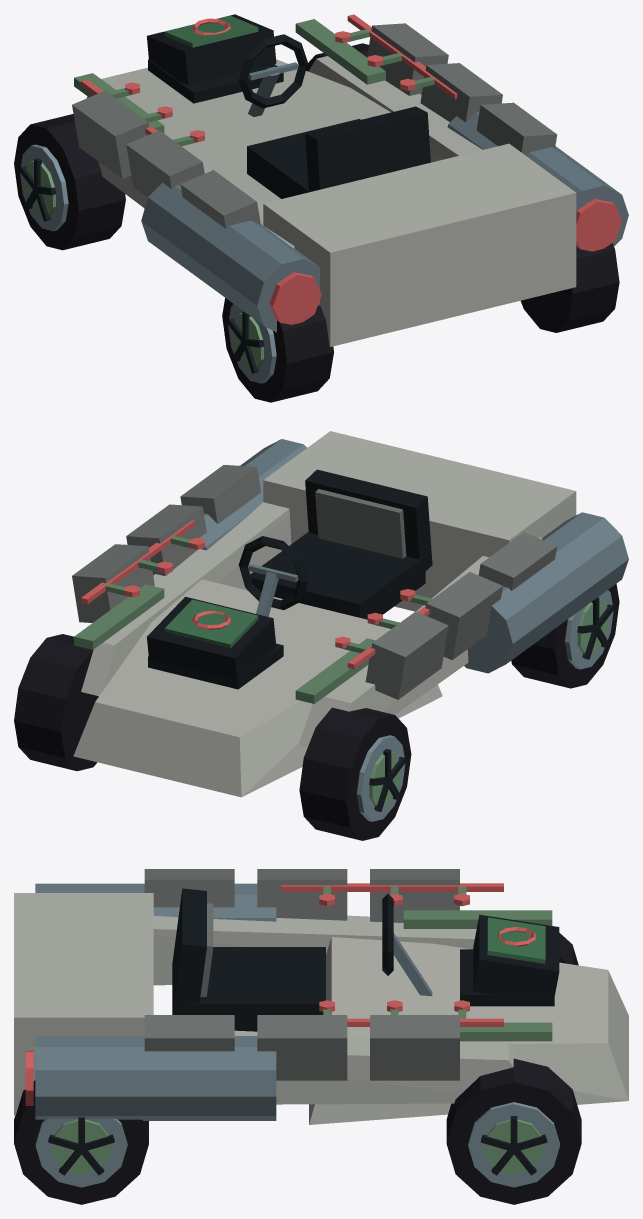
File: kart.glb
3 views of the same model, one above another, from view 1: azimuth 30°, elevation 25°; view 2: azimuth 150°, elevation 25°; view 3: azimuth 270°, elevation 25° (orthographic). The views are drawn at different scales.
Parts seen in each view (by area): view 1: identity-lab-pod-lab-pod-segmented-shell, identity-lab-pod-motif-armor, identity-lab-pod-driver-cockpit, wheel-front-left, wheel-rear-left, identity-lab-pod-motif-scanner, wheel-rear-right, identity-lab-pod-motif-circuit; view 2: identity-lab-pod-lab-pod-segmented-shell, identity-lab-pod-motif-armor, identity-lab-pod-driver-cockpit, wheel-front-left, wheel-front-right, identity-lab-pod-motif-scanner, wheel-rear-left, identity-lab-pod-motif-circuit; view 3: identity-lab-pod-lab-pod-segmented-shell, identity-lab-pod-motif-armor, wheel-front-right, identity-lab-pod-driver-cockpit, wheel-rear-right, identity-lab-pod-motif-scanner, identity-lab-pod-motif-circuit.
Part boxes in pixels (x1,y1,x2,y2): identity-lab-pod-lab-pod-segmented-shell: [74, 19, 628, 346]; identity-lab-pod-motif-armor: [72, 23, 557, 228]; identity-lab-pod-driver-cockpit: [238, 34, 430, 198]; wheel-front-left: [14, 114, 125, 250]; wheel-rear-left: [222, 298, 333, 402]; identity-lab-pod-motif-scanner: [147, 14, 276, 84]; wheel-rear-right: [520, 243, 619, 332]; identity-lab-pod-motif-circuit: [81, 14, 457, 146]; identity-lab-pod-lab-pod-segmented-shell: [73, 431, 628, 797]; identity-lab-pod-motif-armor: [72, 465, 557, 699]; identity-lab-pod-driver-cockpit: [238, 469, 432, 619]; wheel-front-left: [299, 707, 411, 840]; wheel-front-right: [14, 634, 98, 771]; identity-lab-pod-motif-scanner: [147, 596, 276, 680]; wheel-rear-left: [511, 584, 619, 688]; identity-lab-pod-motif-circuit: [81, 520, 432, 669]; identity-lab-pod-lab-pod-segmented-shell: [14, 883, 628, 1124]; identity-lab-pod-motif-armor: [144, 869, 459, 1080]; wheel-front-right: [446, 1058, 581, 1204]; identity-lab-pod-driver-cockpit: [172, 888, 432, 1031]; wheel-rear-right: [14, 1080, 148, 1204]; identity-lab-pod-motif-scanner: [473, 914, 559, 995]; identity-lab-pod-motif-circuit: [281, 883, 503, 1026].
Size of the model in its own units: 1.98 by 1.09 by 2.73.
